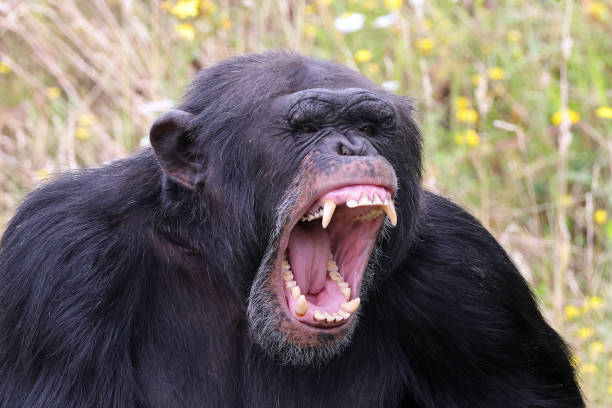chimpanzee: (135, 37, 469, 392)
